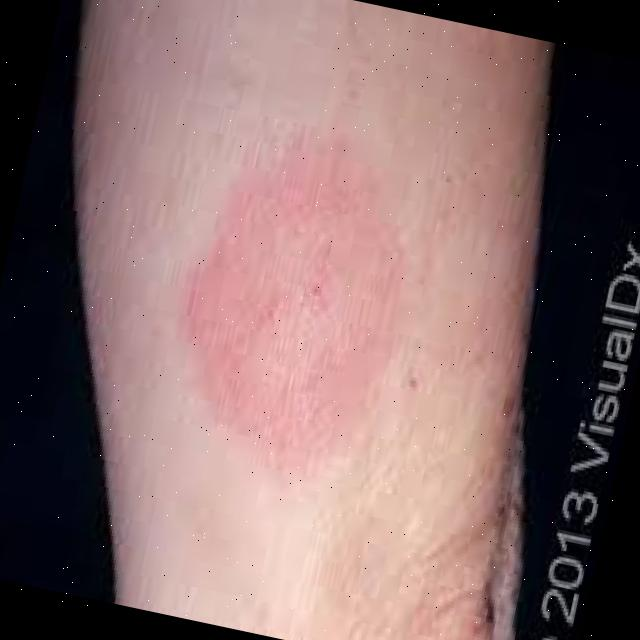kene: (166, 177, 419, 467)
